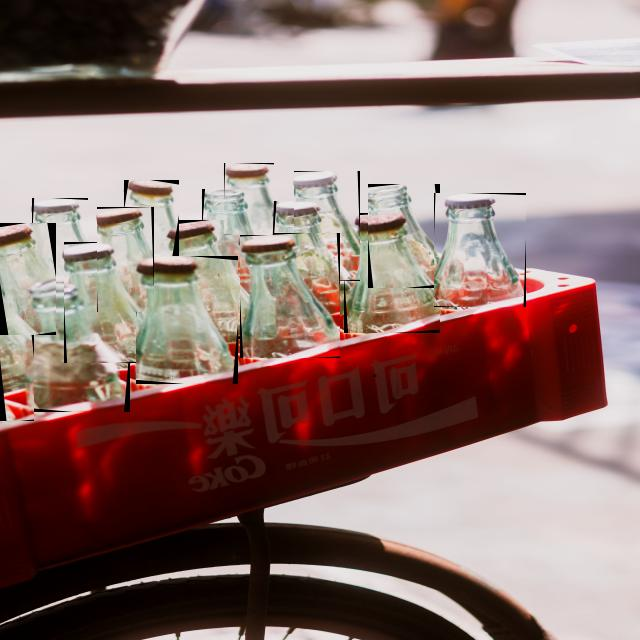Bottle: (23, 282, 128, 412), (135, 256, 237, 384), (239, 234, 338, 357), (343, 213, 438, 333), (433, 193, 524, 307), (63, 242, 143, 363), (171, 221, 248, 339), (272, 201, 349, 315), (293, 171, 359, 280), (368, 185, 438, 287), (0, 224, 54, 334), (96, 208, 152, 311), (202, 190, 253, 289), (32, 198, 88, 281), (124, 181, 177, 256), (224, 163, 272, 235), (0, 296, 32, 392)
